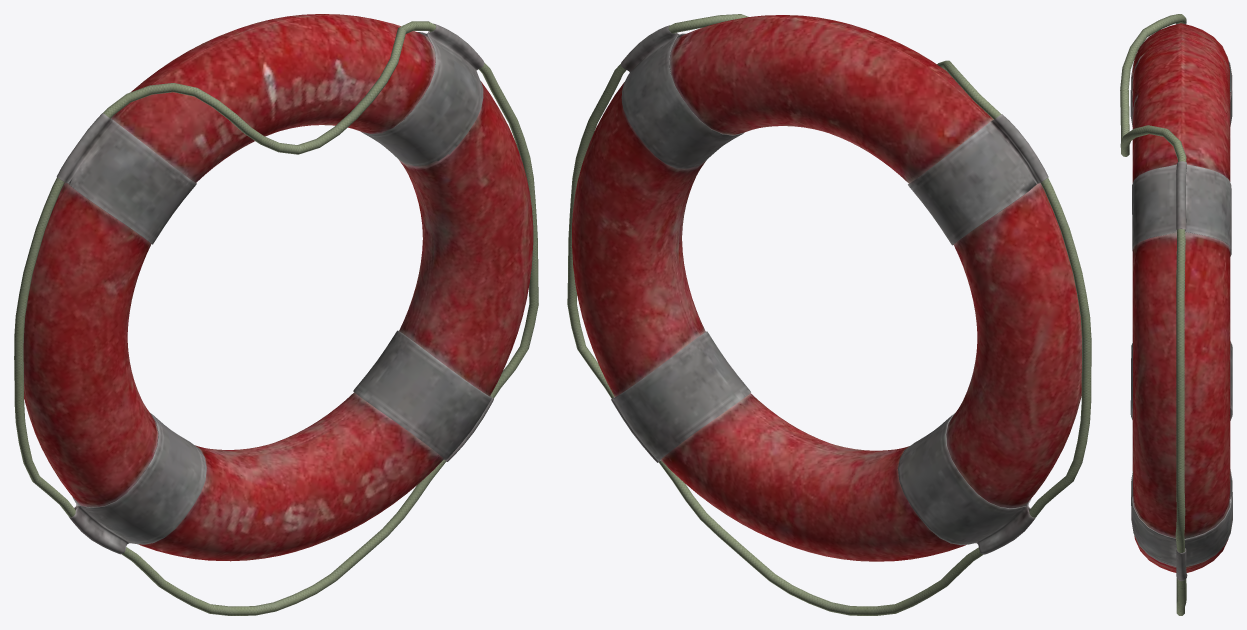
The model's file is lifebuoy.glb.
The picture shows the model from 3 angles, left to right: view 1: azimuth 30°, elevation 25°; view 2: azimuth 150°, elevation 25°; view 3: azimuth 270°, elevation 25°; orthographic projection. The views are drawn at different scales.
Parts seen in each view (by area): view 1: lifebuoy; view 2: lifebuoy; view 3: lifebuoy.
Part boxes in pixels (x1,y1,x2,y2): lifebuoy: [14, 14, 538, 615]; lifebuoy: [567, 14, 1091, 615]; lifebuoy: [1120, 14, 1232, 615].
Bounding box in the file's own units: 0.7832 × 0.8412 × 0.1551.
1 material, 1 textured.
